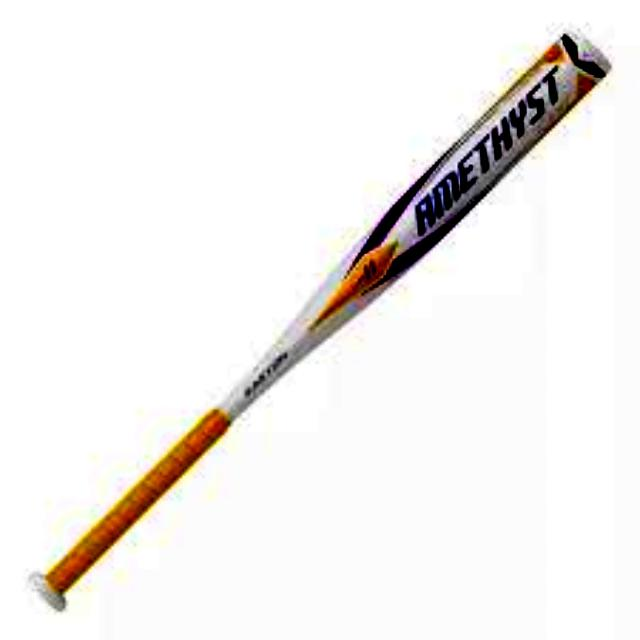baseball bat: (20, 18, 617, 619)
